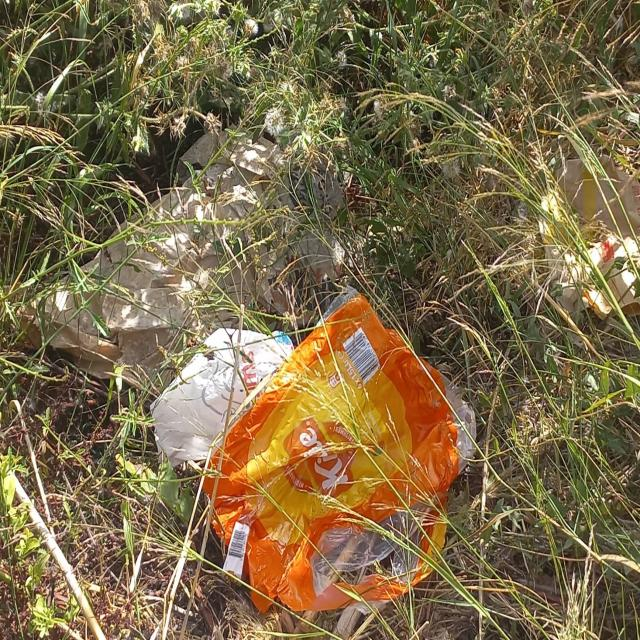Carton: (16, 120, 354, 390), (532, 151, 640, 320)
Plastic bag - wrapper: (198, 288, 478, 619), (145, 326, 290, 469)
